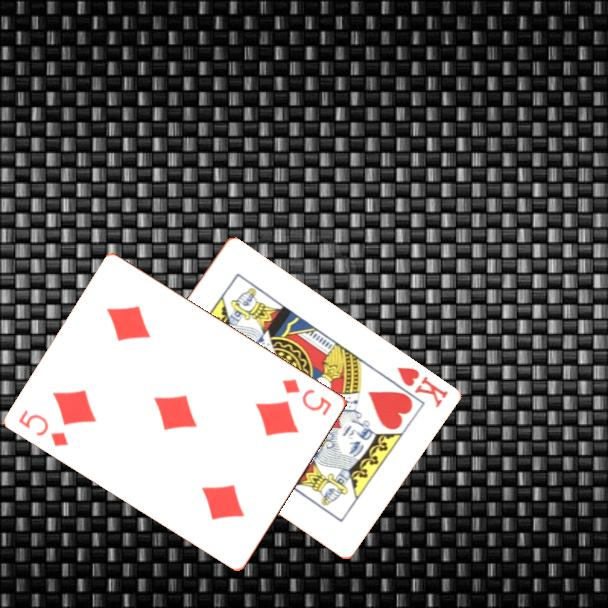d05: (15, 406, 72, 449), (279, 375, 335, 418)
h13: (393, 364, 451, 411)
